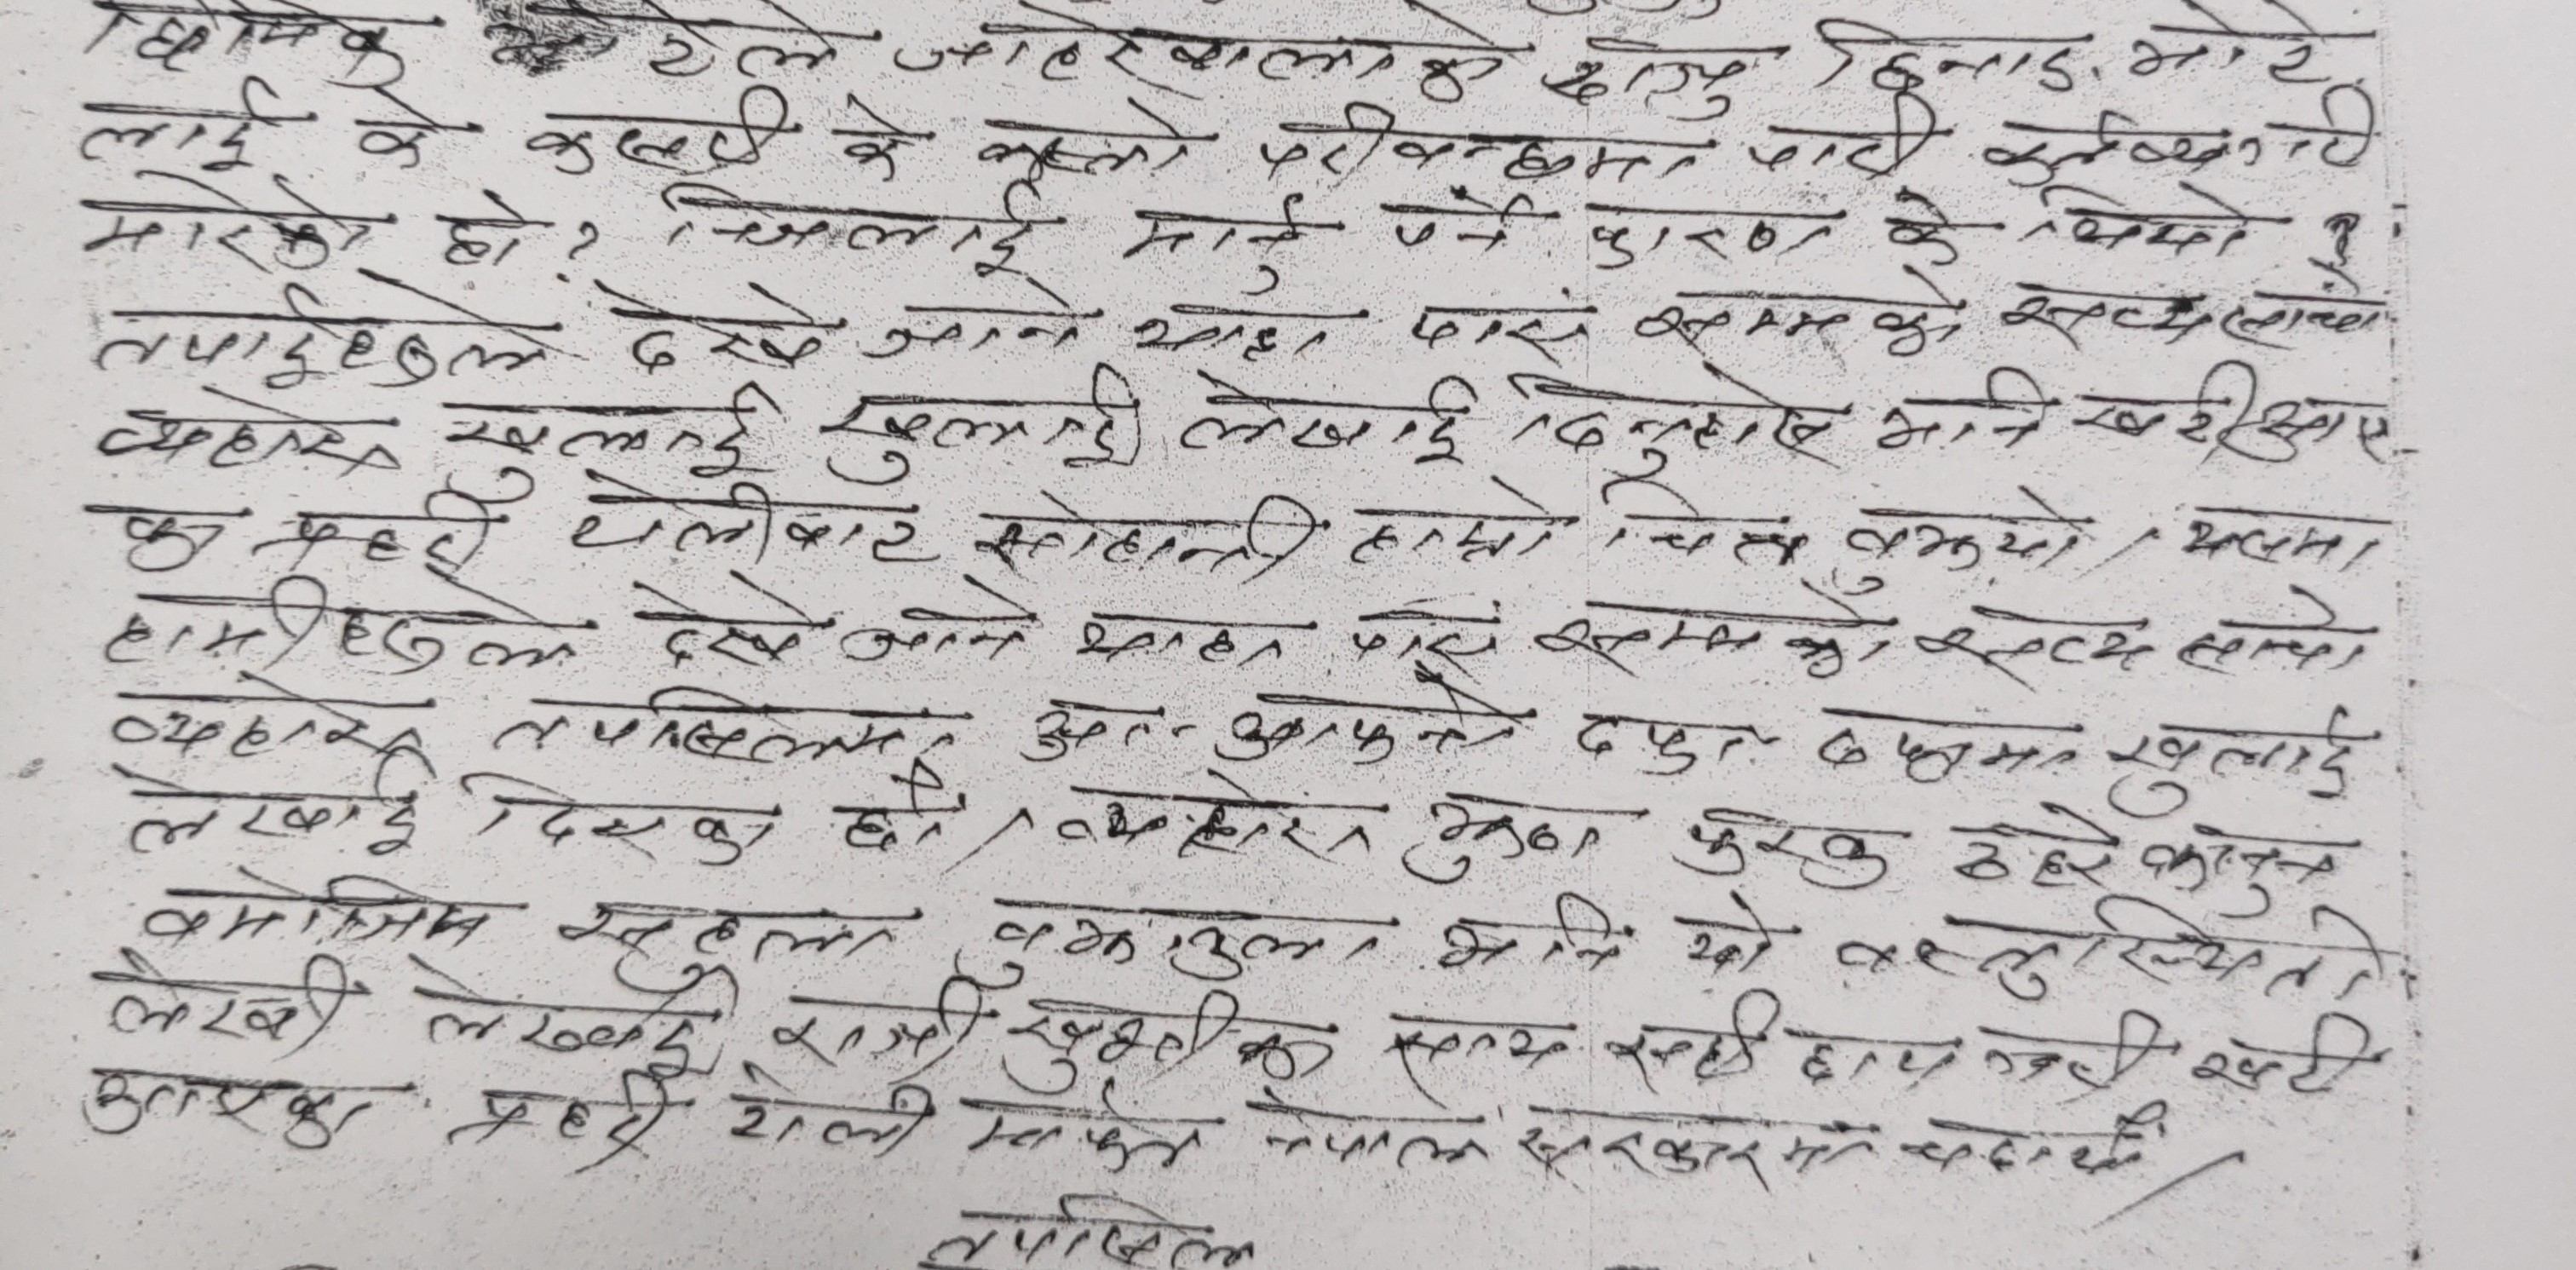text: (890, 3, 1525, 100), (1827, 894, 2389, 1002), (103, 577, 580, 683), (87, 283, 563, 386), (483, 680, 956, 784), (966, 887, 1382, 994), (818, 357, 1153, 488), (389, 950, 723, 1081), (654, 176, 1061, 283), (1505, 358, 1847, 480), (429, 376, 787, 491), (1252, 100, 1694, 192), (565, 467, 943, 572), (1513, 1097, 1888, 1198), (1002, 991, 1342, 1097), (557, 892, 907, 996), (1211, 672, 1539, 777), (1173, 360, 1482, 472), (1631, 265, 1970, 363), (1533, 595, 1902, 683), (140, 858, 494, 950), (76, 1055, 386, 1160), (959, 490, 1322, 577), (80, 169, 379, 274), (2108, 702, 2366, 821), (107, 766, 425, 861), (457, 777, 782, 869), (1830, 488, 2096, 600), (1051, 777, 1372, 869), (90, 388, 409, 480), (473, 2, 853, 79), (77, 2, 422, 85), (910, 1191, 1268, 1270), (99, 675, 429, 759), (87, 950, 353, 1053), (521, 82, 800, 181), (593, 268, 835, 381), (959, 1074, 1212, 1178), (1810, 703, 2091, 792), (1809, 12, 2104, 95), (1240, 1086, 1493, 1180), (1671, 795, 1897, 899), (1985, 95, 2229, 191), (455, 1074, 678, 1178), (250, 481, 503, 572), (1395, 782, 1612, 887), (764, 978, 992, 1076), (1595, 473, 1815, 572), (1912, 600, 2155, 685), (1603, 982, 1781, 1099), (1534, 31, 1763, 122), (1119, 192, 1314, 297), (1580, 197, 1847, 274), (1901, 1107, 2160, 1186), (2055, 357, 2262, 455), (2142, 817, 2334, 922), (710, 1076, 936, 1163), (2027, 177, 2261, 261), (2170, 583, 2380, 675), (623, 575, 821, 672), (66, 81, 278, 171), (974, 94, 1201, 177), (838, 575, 1042, 667), (861, 284, 1092, 365), (1976, 1001, 2165, 1099), (1873, 360, 2054, 462), (1741, 90, 1948, 179), (1130, 291, 1345, 375), (1566, 698, 1787, 777), (1437, 890, 1626, 982), (1388, 1005, 1575, 1097), (2126, 3, 2333, 85), (2169, 503, 2389, 580), (2216, 260, 2390, 357), (1349, 485, 1562, 564), (1945, 803, 2123, 897), (2187, 1014, 2377, 1101), (1069, 605, 1306, 674), (1998, 274, 2206, 350), (1339, 595, 1516, 679), (1406, 294, 1603, 363), (2241, 389, 2405, 472), (1787, 1019, 1963, 1094), (2234, 90, 2382, 179), (94, 490, 235, 577), (818, 777, 953, 863), (1017, 695, 1157, 775), (1378, 187, 1529, 260), (437, 174, 540, 274), (825, 89, 925, 184), (348, 82, 457, 168), (1671, 894, 1787, 971), (1879, 181, 1975, 271)
